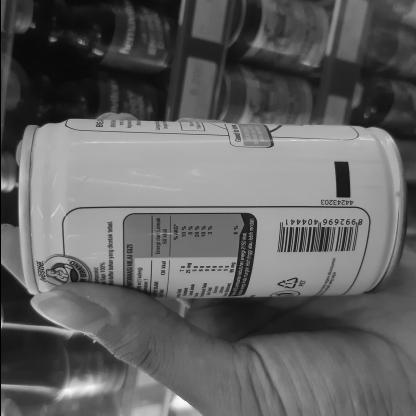alumunium_can: (26, 102, 408, 322)
